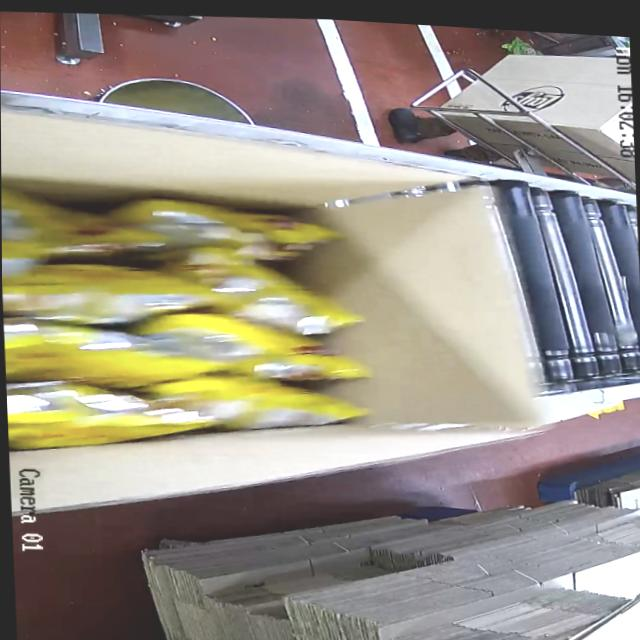SALTED: (1, 176, 372, 474)
